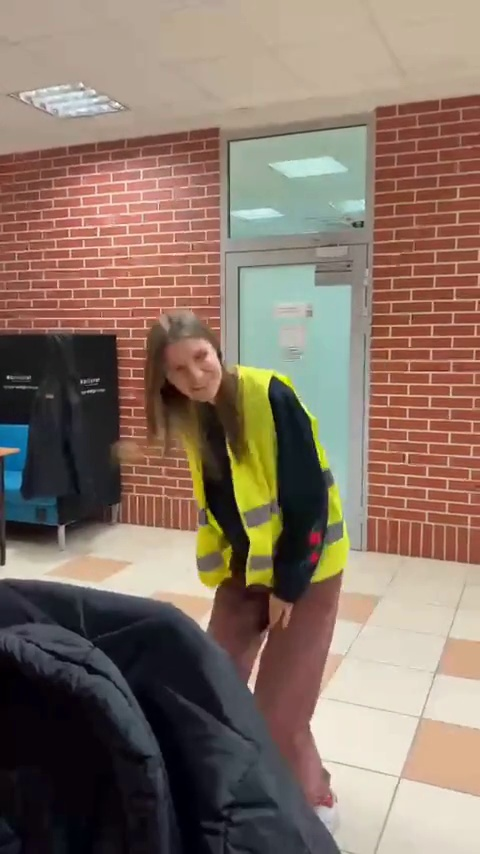vest: (139, 310, 348, 854)
